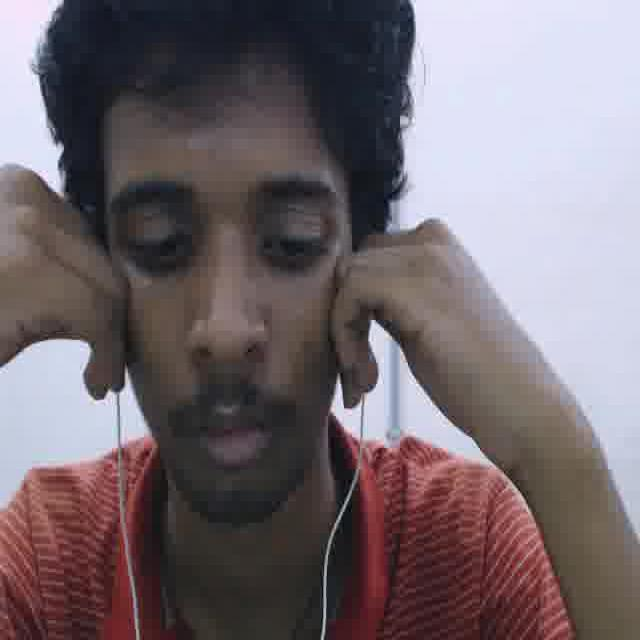Boredom: (95, 68, 352, 500)
